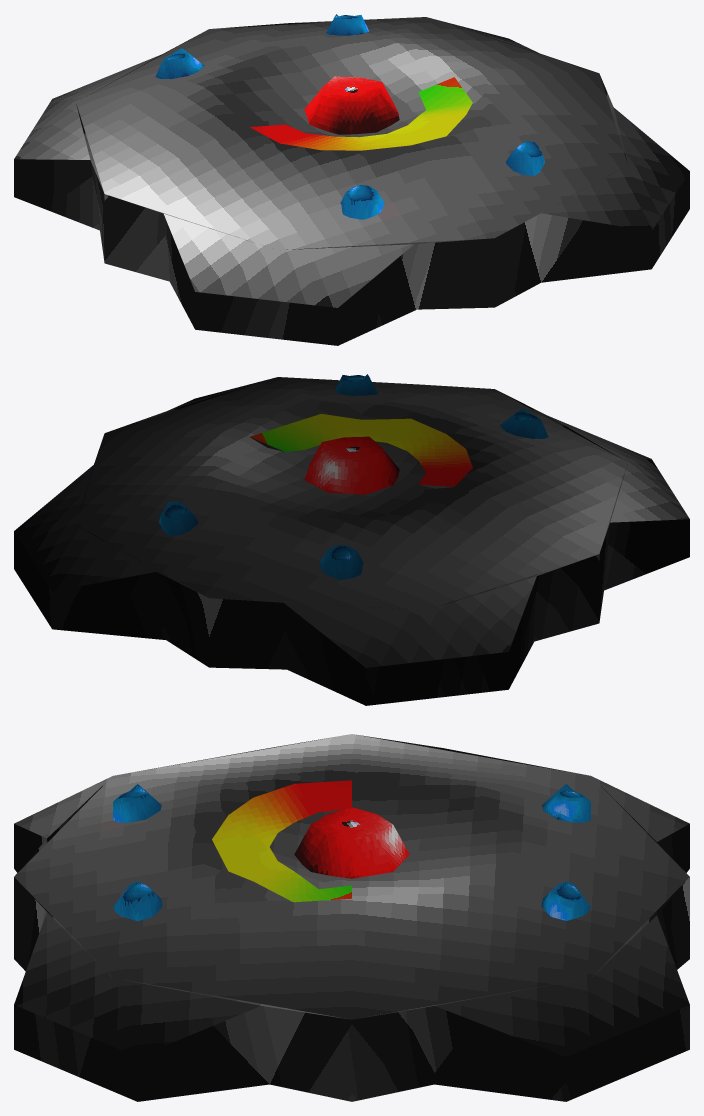
Rendered from GtimedmineZ.obj.
3 views of the same model, one above another, from view 1: azimuth 30°, elevation 25°; view 2: azimuth 150°, elevation 25°; view 3: azimuth 270°, elevation 25° (orthographic). The views are drawn at different scales.
Bounding box in the file's own units: 82 × 18 × 82.
4 materials, 4 textured.
